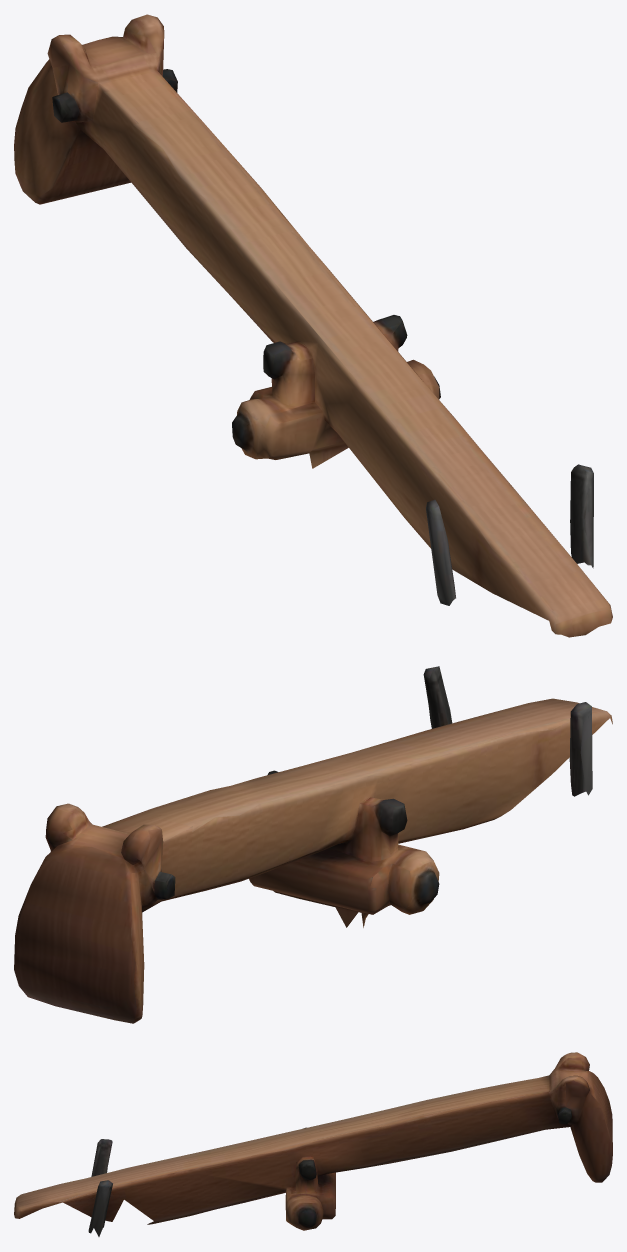
File: jack_beam.glb
3 views of the same model, one above another, from view 1: azimuth 30°, elevation 25°; view 2: azimuth 150°, elevation 25°; view 3: azimuth 270°, elevation 25° (orthographic). The views are drawn at different scales.
Parts seen in each view (by area): view 1: geometry_0; view 2: geometry_0; view 3: geometry_0.
Part boxes in pixels (x1,y1,x2,y2): geometry_0: [14, 14, 612, 637]; geometry_0: [14, 666, 612, 1023]; geometry_0: [14, 1052, 612, 1236].
Size of the model in its own units: 0.8912 by 1.12 by 4.
1 material, 1 textured.
